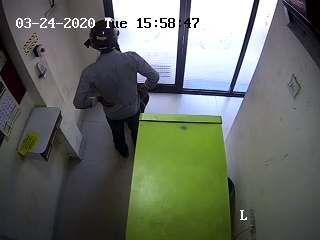helmet: (84, 17, 123, 61)
